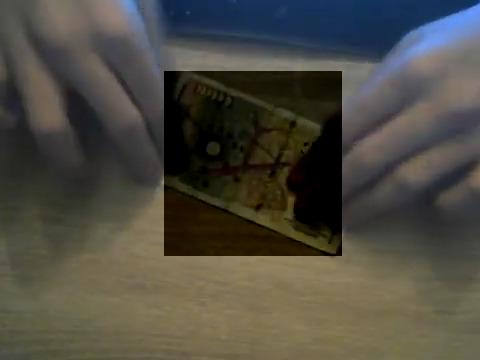10leva: (164, 71, 342, 256)
